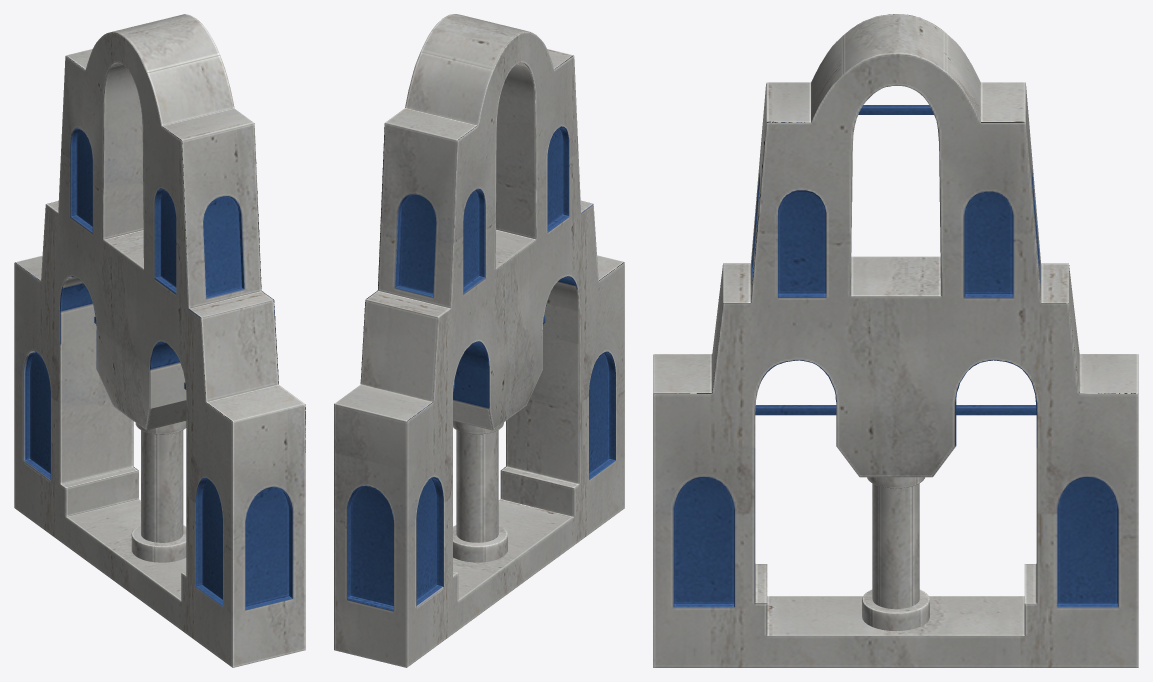
Rendered from website-scene-2.glb.
3 renders of one model, left to right at view 1: azimuth 30°, elevation 25°; view 2: azimuth 150°, elevation 25°; view 3: azimuth 270°, elevation 25°, orthographic. The views are drawn at different scales.
Visible parts, largest first — view 1: Boole_1, Cylinder.001; view 2: Boole_1, Cylinder.001; view 3: Boole_1, Cylinder.001, Pole, Pole_1.
Boxes of the visible parts, left/top/right/bottom form: Boole_1: left=14, top=14, right=305, bottom=667; Cylinder.001: left=131, top=421, right=186, bottom=562; Boole_1: left=334, top=14, right=624, bottom=667; Cylinder.001: left=453, top=421, right=507, bottom=562; Boole_1: left=653, top=14, right=1138, bottom=667; Cylinder.001: left=862, top=477, right=929, bottom=630; Pole: left=755, top=405, right=1036, bottom=415; Pole_1: left=858, top=105, right=933, bottom=114.
Bounding box in the file's own units: 3.5 × 25.19 × 18.02.
Materials: 1 (1 with a texture image).
